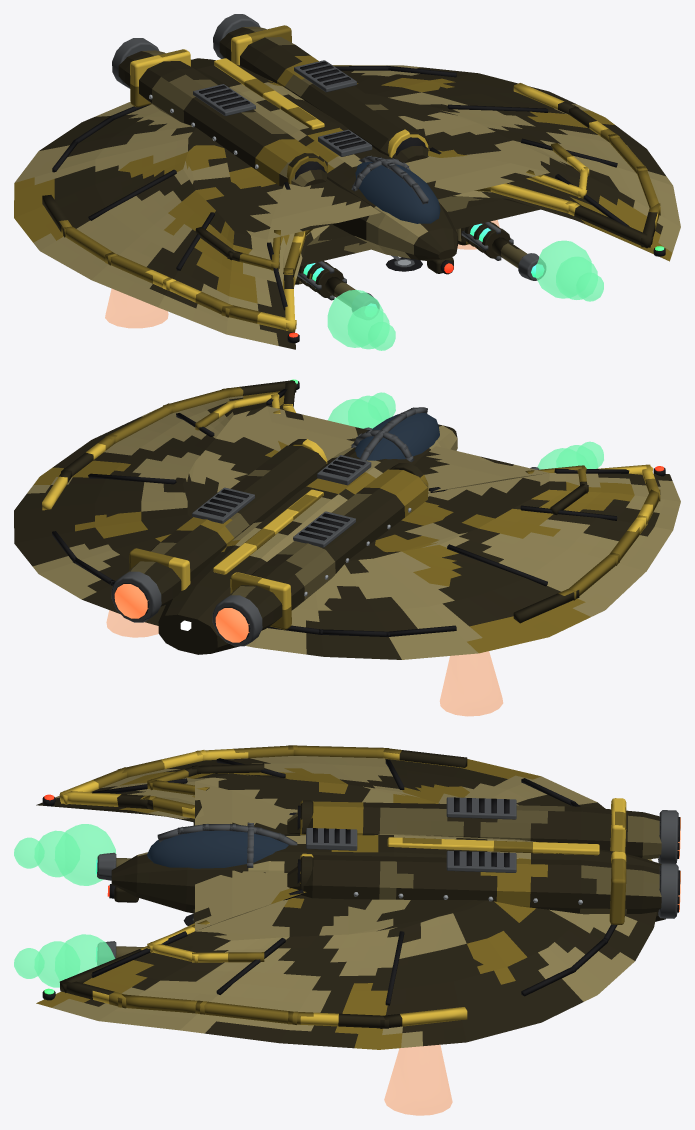
The model's file is SCRIN.glb.
The picture shows the model from 3 angles, top to bottom: view 1: azimuth 30°, elevation 25°; view 2: azimuth 150°, elevation 25°; view 3: azimuth 270°, elevation 25°; orthographic projection. The views are drawn at different scales.
Parts seen in each view (by area): view 1: Hull, Flash, FanPlume; view 2: Hull, FanPlume, Flash, ExhaustGlow; view 3: Hull, Flash, FanPlume.
Boxes of the visible parts, x1,y1,x2,y2 form: Hull: [14, 14, 680, 349]; Flash: [327, 240, 603, 350]; FanPlume: [105, 220, 499, 328]; Hull: [14, 379, 680, 659]; FanPlume: [106, 610, 502, 716]; Flash: [328, 392, 603, 469]; ExhaustGlow: [114, 584, 249, 642]; Hull: [36, 745, 680, 1049]; Flash: [14, 824, 115, 987]; FanPlume: [384, 1044, 452, 1115].
Bounding box in the file's own units: 1.12 × 0.3375 × 1.07.
